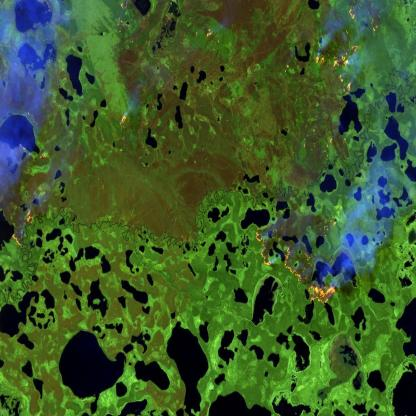fire: (252, 207, 340, 310), (309, 0, 381, 100), (15, 102, 55, 171), (109, 0, 134, 40), (194, 23, 221, 54), (114, 104, 131, 149)
